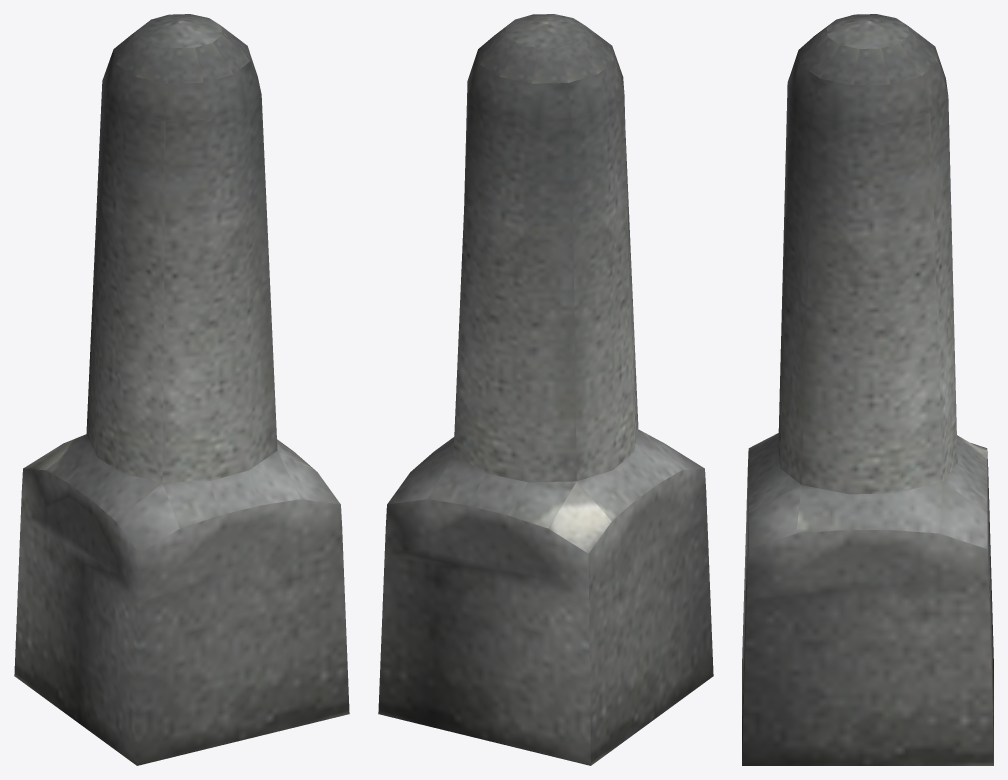
Rendered from Urban_ConcreteRetroBollard_Model.fbx.
The picture shows the model from 3 angles, left to right: view 1: azimuth 30°, elevation 25°; view 2: azimuth 150°, elevation 25°; view 3: azimuth 270°, elevation 25°; orthographic projection. The views are drawn at different scales.
Visible parts, largest first — view 1: Urban_ConcreteRetroBollard_Mesh; view 2: Urban_ConcreteRetroBollard_Mesh; view 3: Urban_ConcreteRetroBollard_Mesh.
Part boxes in pixels (x1,y1,x2,y2): Urban_ConcreteRetroBollard_Mesh: (14, 14, 349, 765); Urban_ConcreteRetroBollard_Mesh: (378, 14, 713, 765); Urban_ConcreteRetroBollard_Mesh: (742, 14, 993, 765).
Bounding box in the file's own units: 0.4286 × 1.3 × 0.4286.
